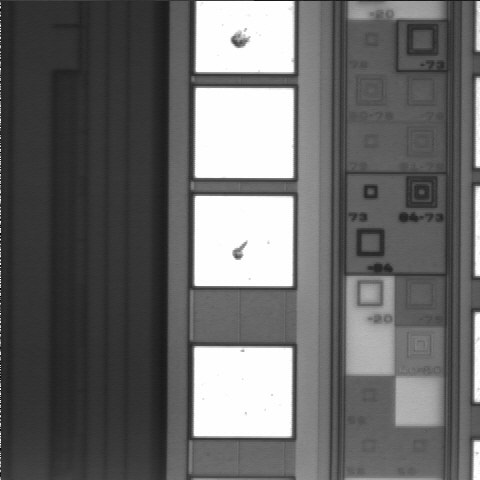pad: (195, 88, 294, 178), (194, 196, 293, 286), (194, 347, 292, 437)
